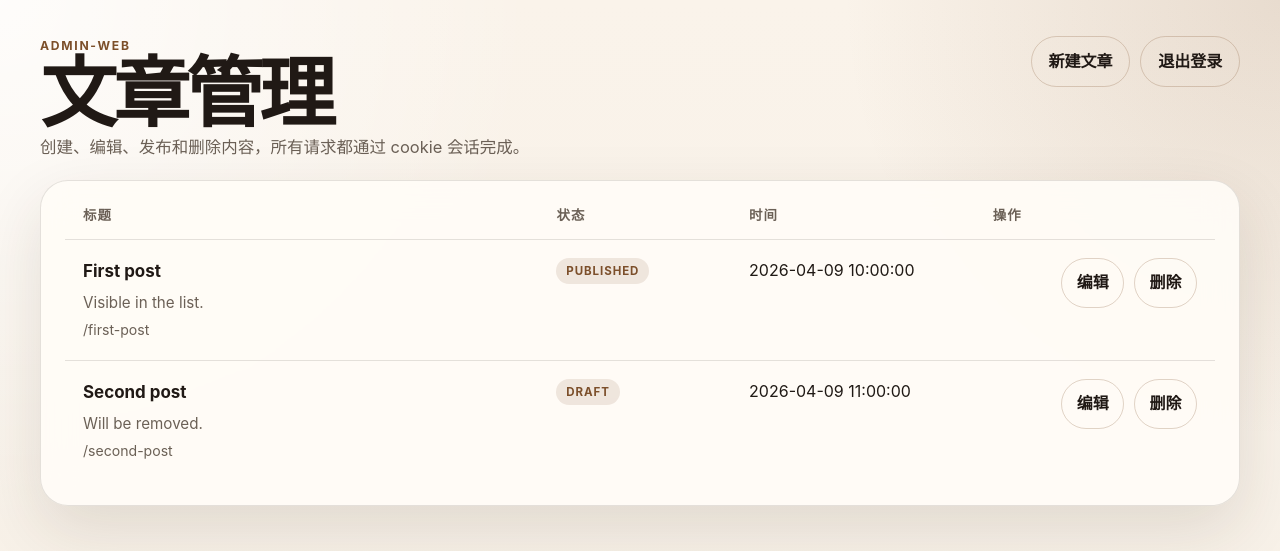
it: PostListView › loads posts and deletes a record
This screenshot has width=1280, height=551.
Expected: the element with test id "post-list" shows "First post", [83, 261, 161, 281]
Expected: the element with test id "post-list" shows "Second post", [83, 382, 186, 402]
Click the button with test id "delete-post-1": (1166, 283) [1134, 258, 1197, 308]
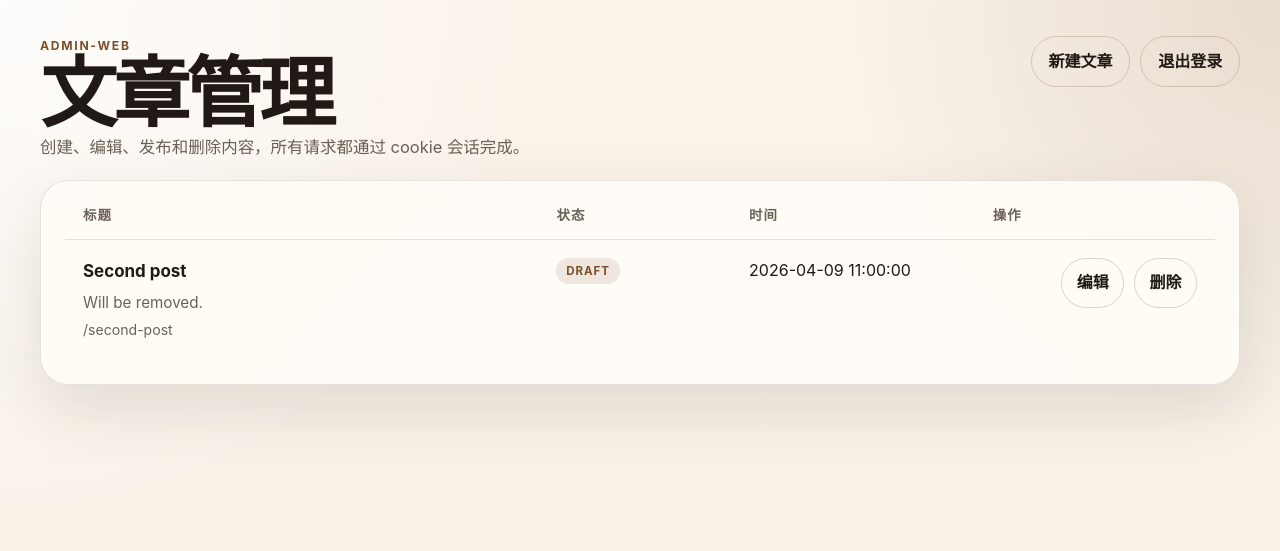
Expected: the heading with test id "post-list" no longer shows "First post"
